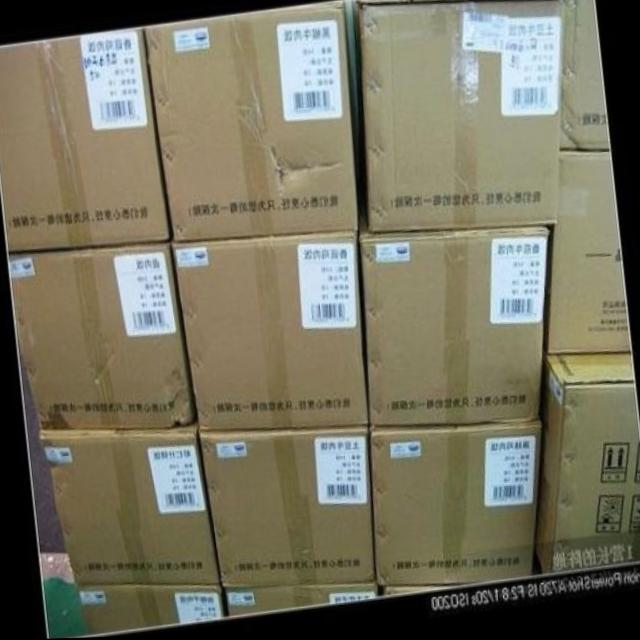box: (143, 3, 358, 245), (357, 161, 549, 428), (355, 2, 563, 233), (0, 28, 171, 255), (173, 231, 368, 429), (10, 241, 197, 430), (42, 429, 222, 588), (198, 429, 375, 590), (371, 424, 538, 588), (532, 358, 640, 576), (544, 153, 631, 357), (560, 0, 611, 157), (76, 585, 224, 636), (222, 584, 376, 617), (355, 0, 562, 5)
